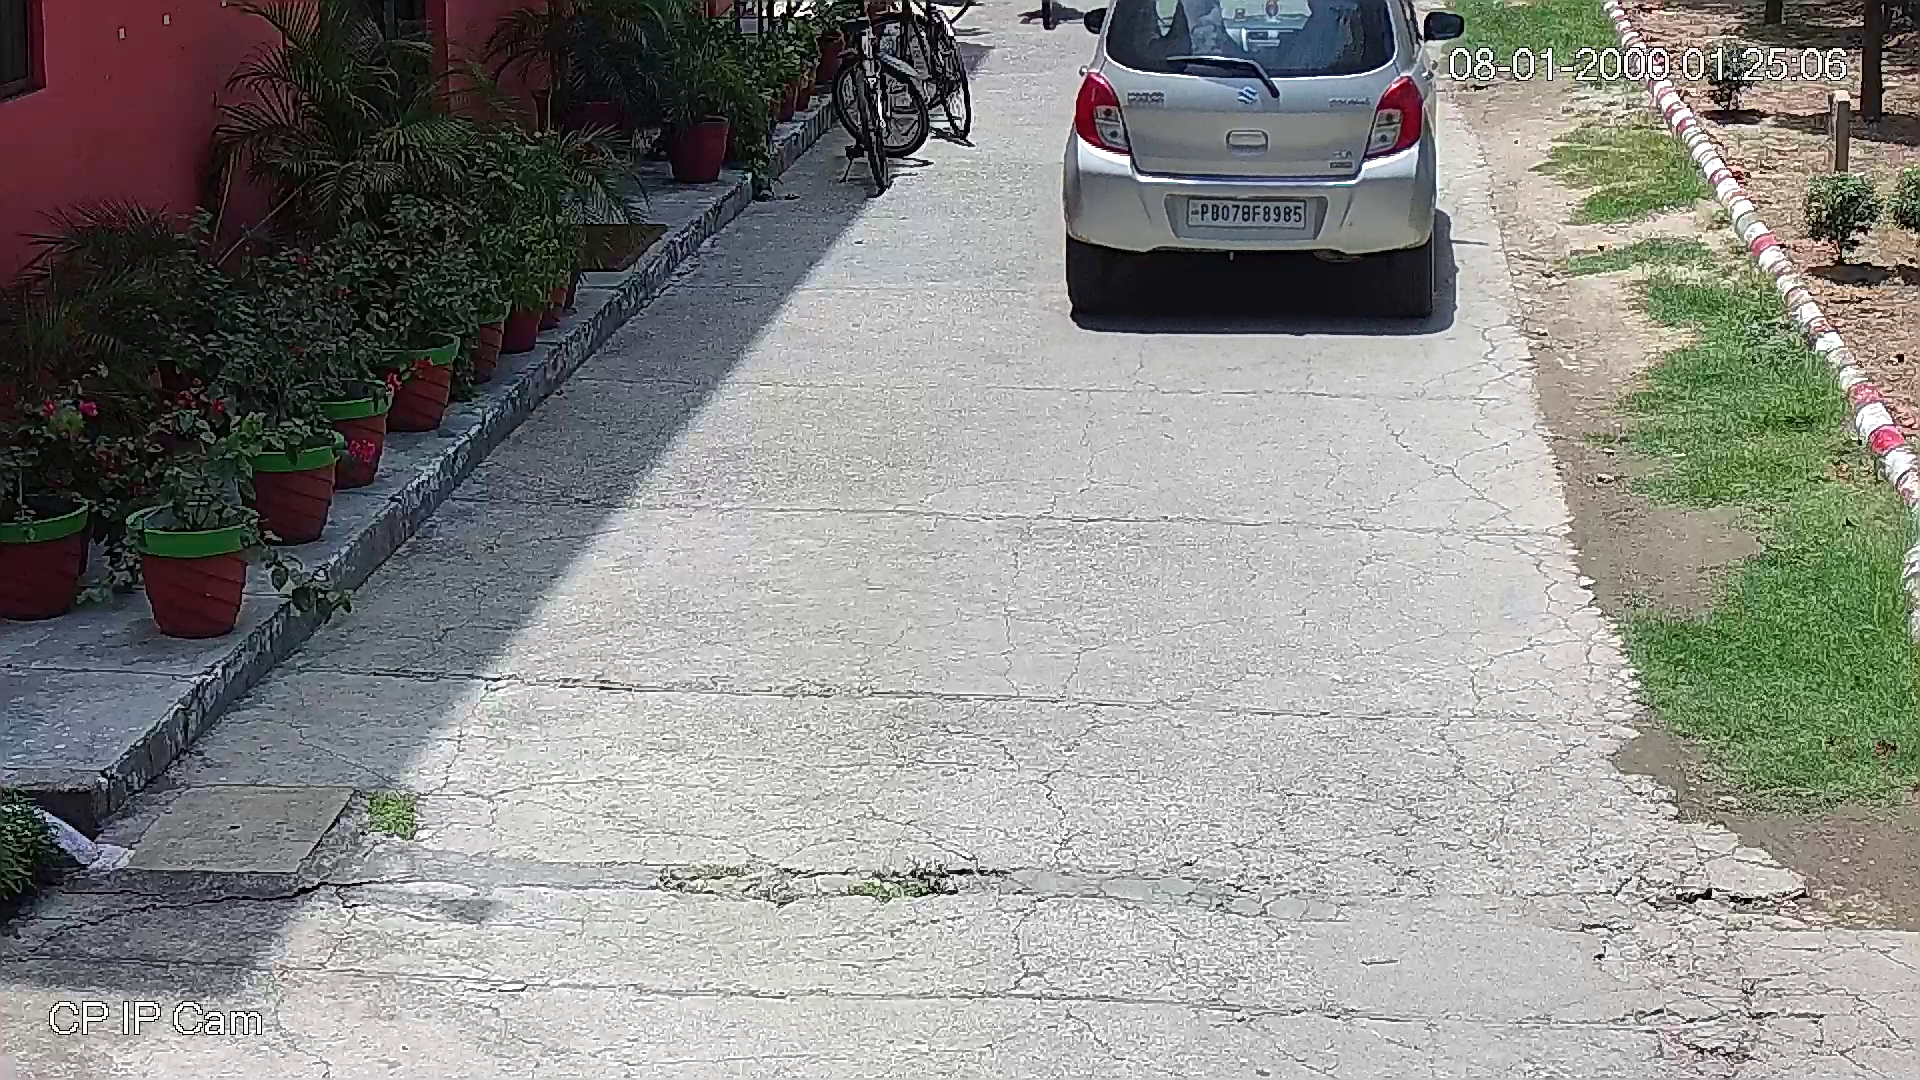plate: (1181, 193, 1311, 231)
